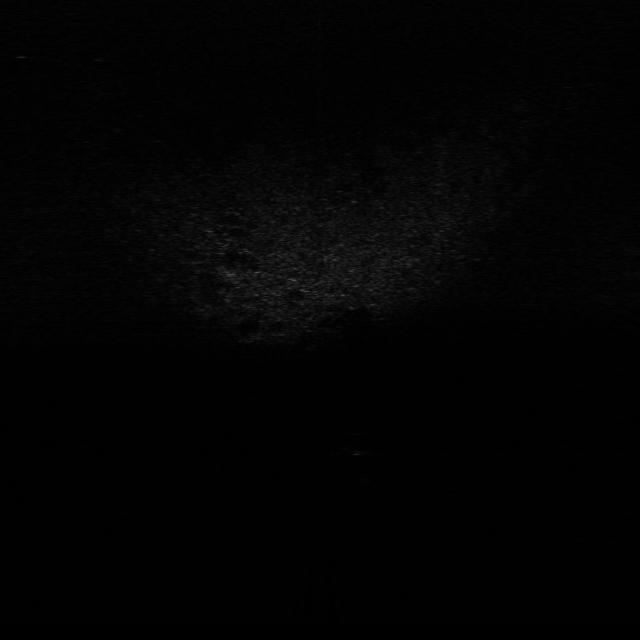ball: (338, 429, 381, 457)
